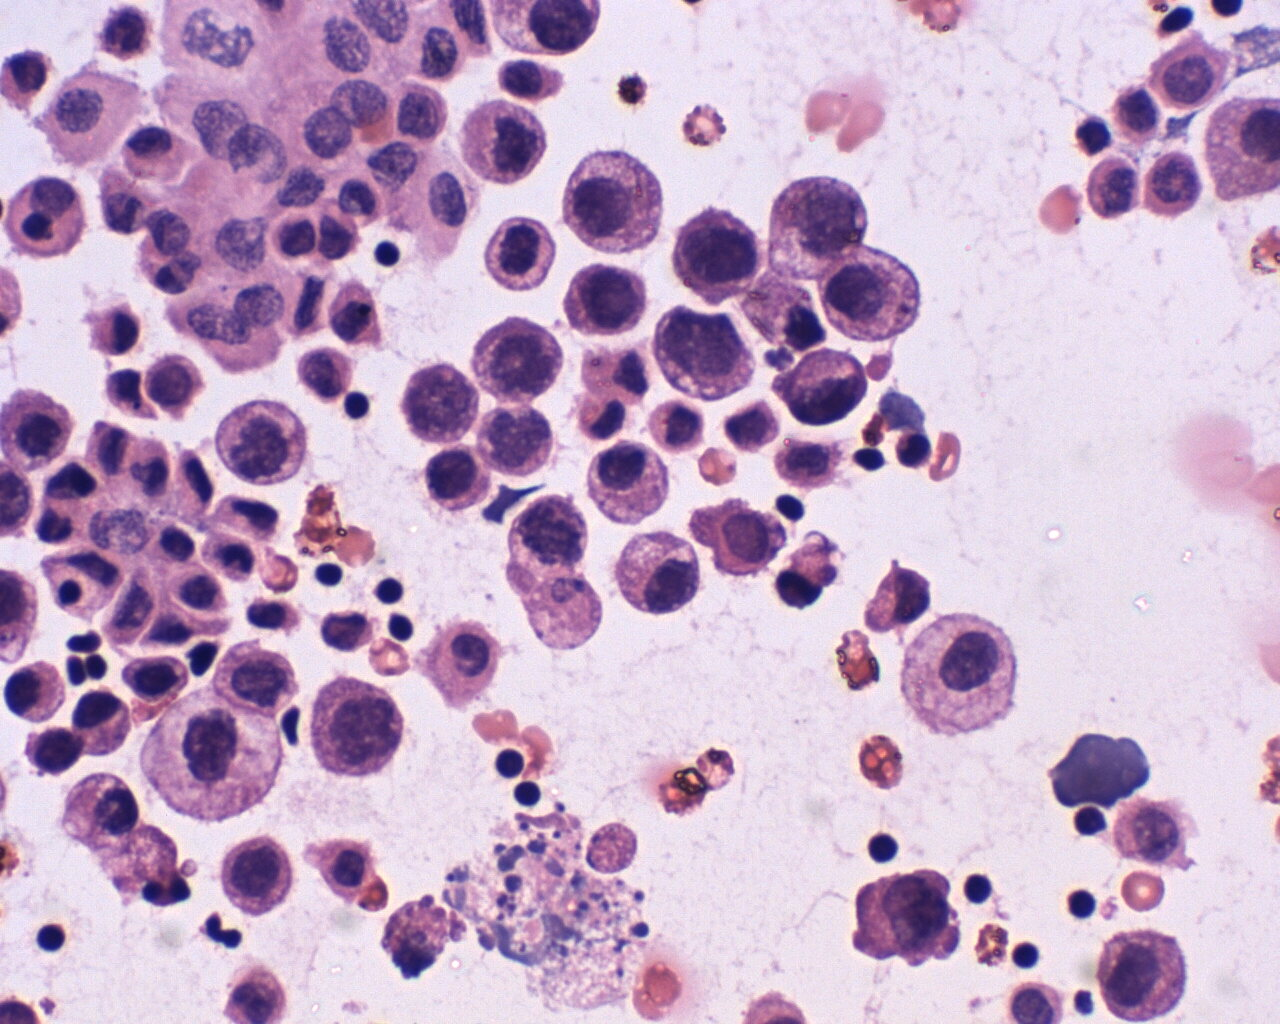ab: (653, 299, 765, 408), (759, 169, 867, 276), (1091, 922, 1198, 1024), (306, 673, 410, 776), (607, 526, 711, 626), (210, 397, 316, 485), (675, 205, 765, 305), (457, 99, 551, 188), (472, 317, 572, 397), (779, 349, 874, 434), (393, 359, 478, 449), (563, 258, 649, 341), (211, 636, 304, 712), (478, 213, 566, 292), (218, 837, 302, 917), (478, 395, 555, 478), (704, 501, 779, 585), (322, 272, 387, 351), (1143, 149, 1212, 223), (644, 399, 712, 453)
lymph: (32, 916, 77, 961), (860, 827, 907, 868), (489, 743, 533, 783)
